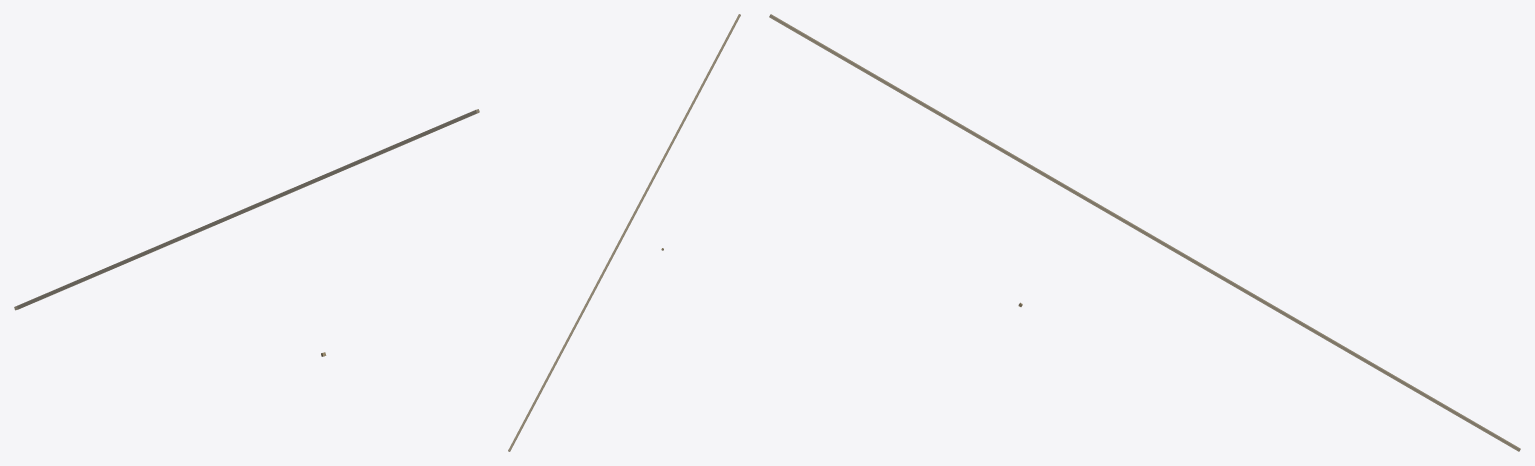
3 renders of one model, left to right at view 1: azimuth 30°, elevation 25°; view 2: azimuth 150°, elevation 25°; view 3: azimuth 270°, elevation 25°, orthographic. The views are drawn at different scales.
Parts seen in each view (by area): view 1: KC North Shaft; view 2: KC North Shaft; view 3: KC North Shaft.
Boxes of the visible parts, x1,y1,x2,y2 form: KC North Shaft: (14,109,479,310); KC North Shaft: (508,14,740,451); KC North Shaft: (769,14,1520,451).
Bounding box in the file's own units: 0.205 × 34.19 × 53.3.
